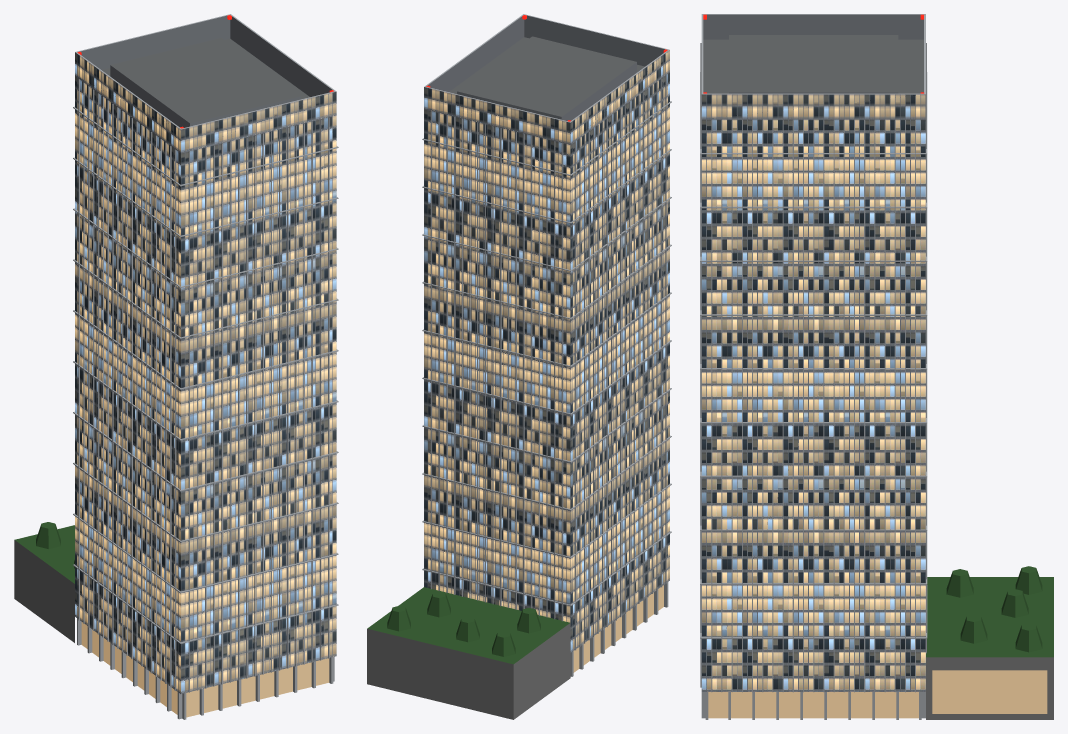
Rendered from otemachi_tower.glb.
3 views of the same model, side by side, from view 1: azimuth 30°, elevation 25°; view 2: azimuth 150°, elevation 25°; view 3: azimuth 270°, elevation 25° (orthographic). The views are drawn at different scales.
Parts seen in each view (by area): view 1: otemachi_tower; view 2: otemachi_tower; view 3: otemachi_tower.
Boxes of the visible parts, x1=… form: otemachi_tower: x1=14, y1=14, x2=338, y2=719; otemachi_tower: x1=367, y1=14, x2=671, y2=719; otemachi_tower: x1=700, y1=14, x2=1053, y2=719.
Bounding box in the file's own units: 56 × 200 × 102.
Materials: 2 (2 with a texture image).
